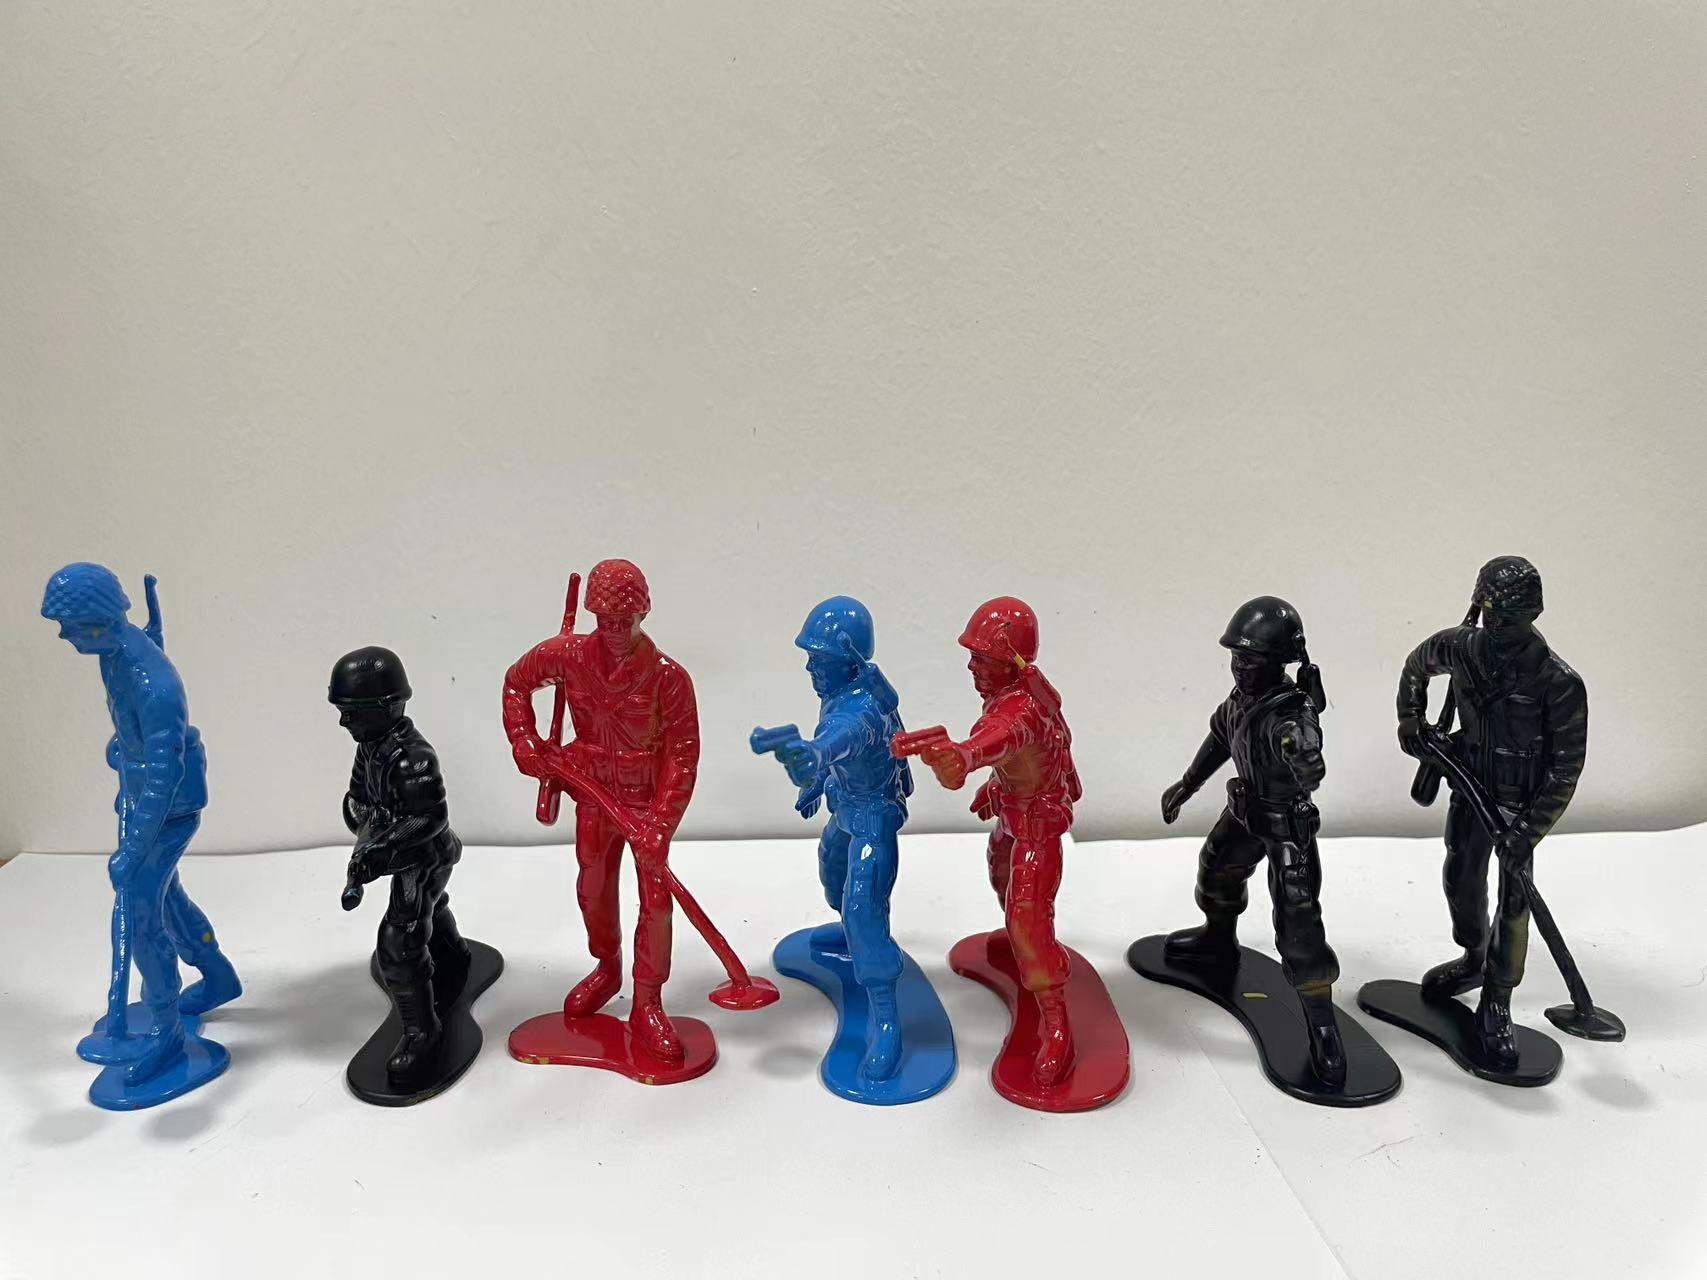black: (1383, 536, 1668, 1113), (1118, 563, 1394, 1146), (313, 600, 513, 1119)
blue: (31, 522, 272, 1143), (742, 575, 934, 1119)
red: (505, 514, 745, 1140), (901, 570, 1130, 1143)
